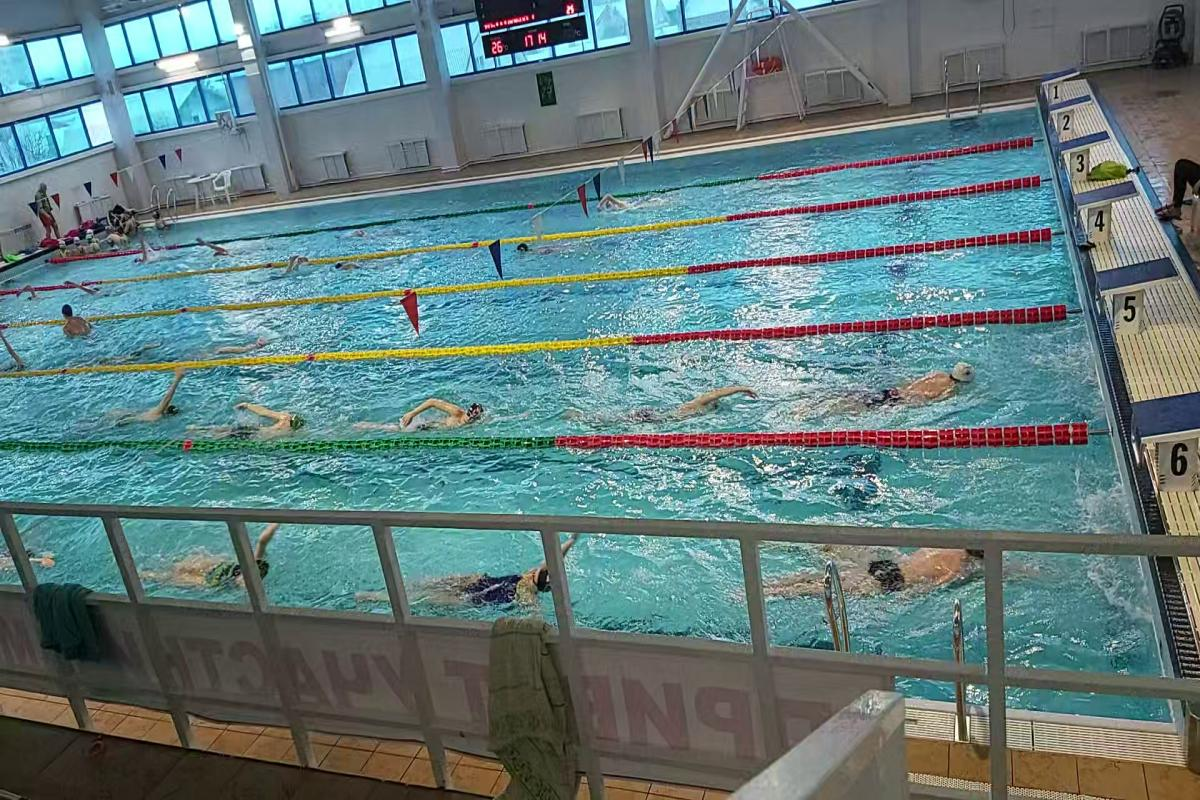swimmer: (376, 528, 562, 615), (768, 540, 982, 599), (144, 524, 282, 600), (844, 359, 993, 424), (599, 376, 765, 432), (365, 386, 494, 435), (206, 398, 312, 440), (121, 366, 190, 424), (512, 235, 582, 263), (596, 186, 649, 214), (53, 304, 95, 339), (332, 254, 367, 276)
